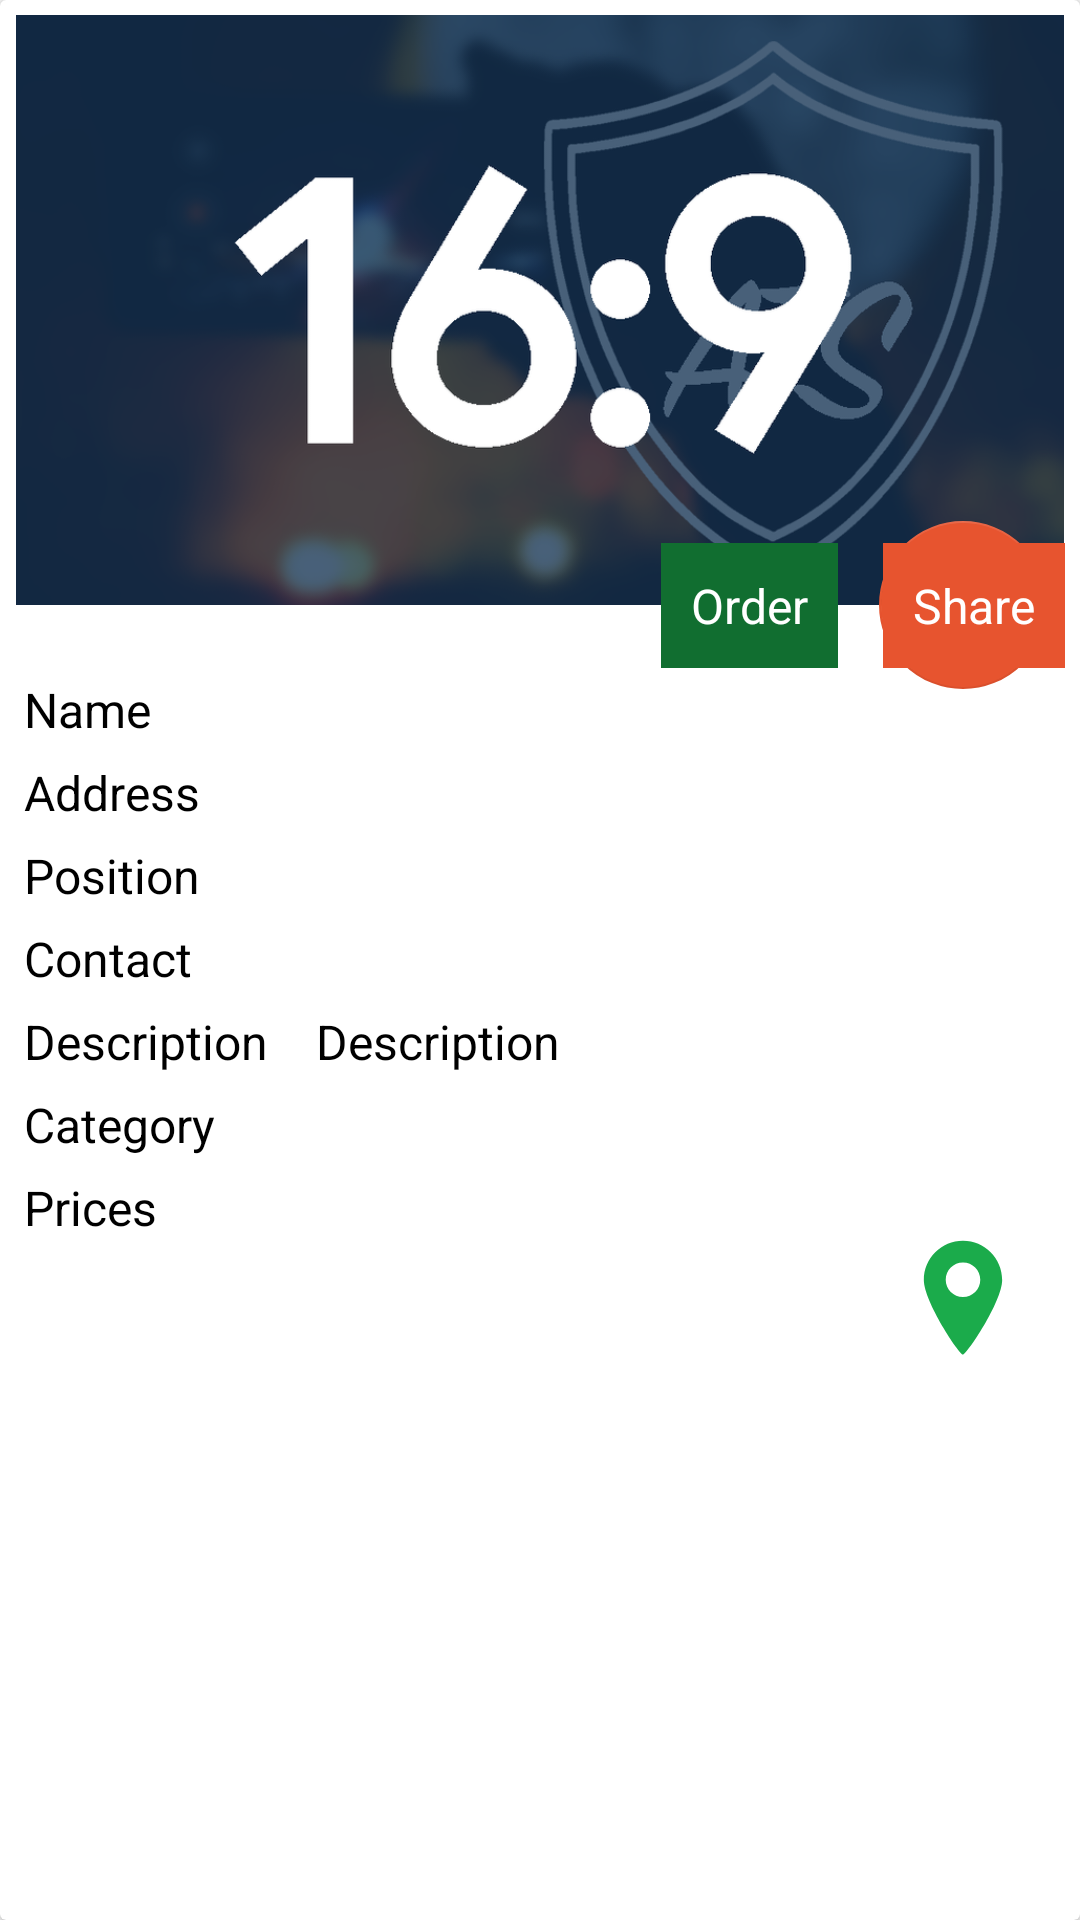

Where icons sit on this 1080 × 1920 app screen, as (x1, y1, x2, y2):
location: (923, 1240, 1003, 1355)
